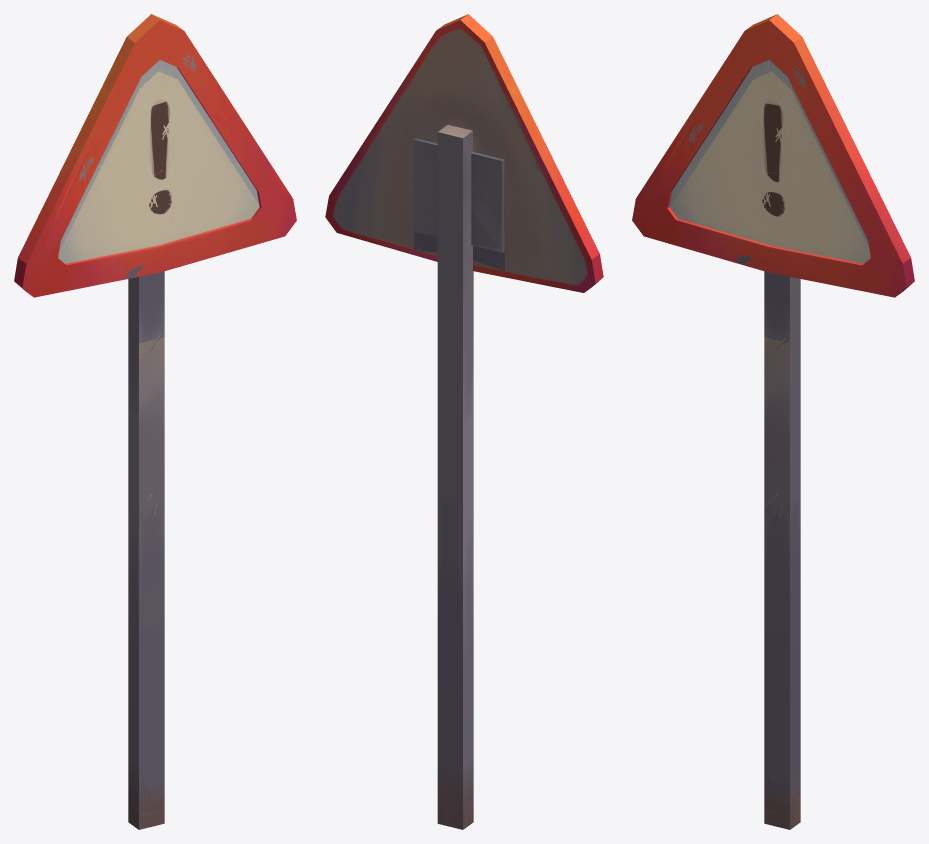
Rendered from señal.fbx.
The picture shows the model from 3 angles, left to right: view 1: azimuth 30°, elevation 25°; view 2: azimuth 150°, elevation 25°; view 3: azimuth 330°, elevation 25°; orthographic projection.
Visible parts, largest first — view 1: Plane; view 2: Plane; view 3: Plane.
Boxes of the visible parts, left/top/right/bottom form: Plane: left=14, top=14, right=296, bottom=829; Plane: left=325, top=14, right=603, bottom=829; Plane: left=632, top=14, right=914, bottom=829.
Size of the model in its own units: 74.13 by 210 by 8.75.
Materials: 1 (1 with a texture image).
